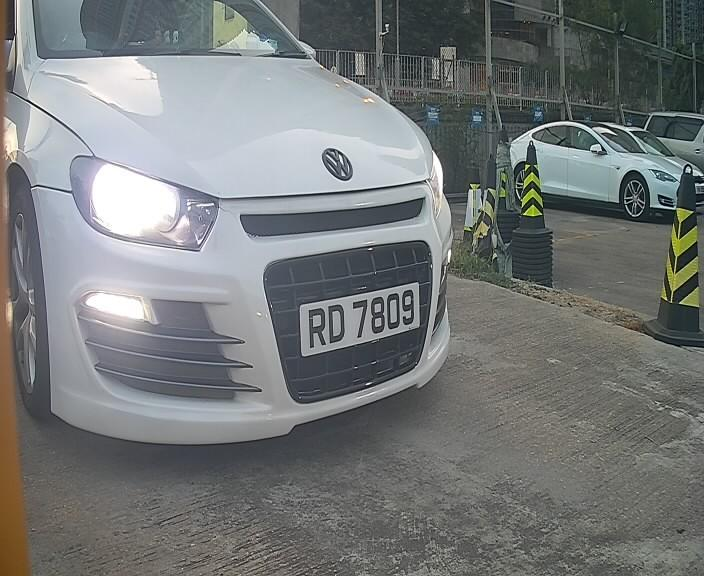License Plate: (289, 276, 428, 363)
